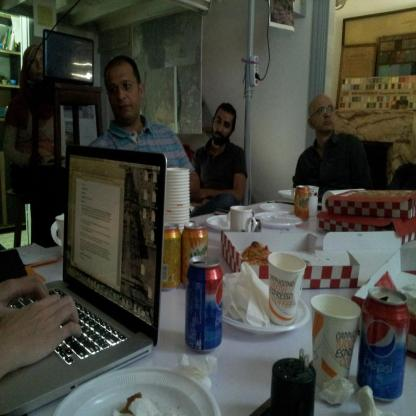board: (0, 141, 167, 415), (358, 287, 408, 402), (186, 255, 223, 352), (182, 223, 208, 288), (160, 221, 182, 290), (295, 185, 310, 221)
